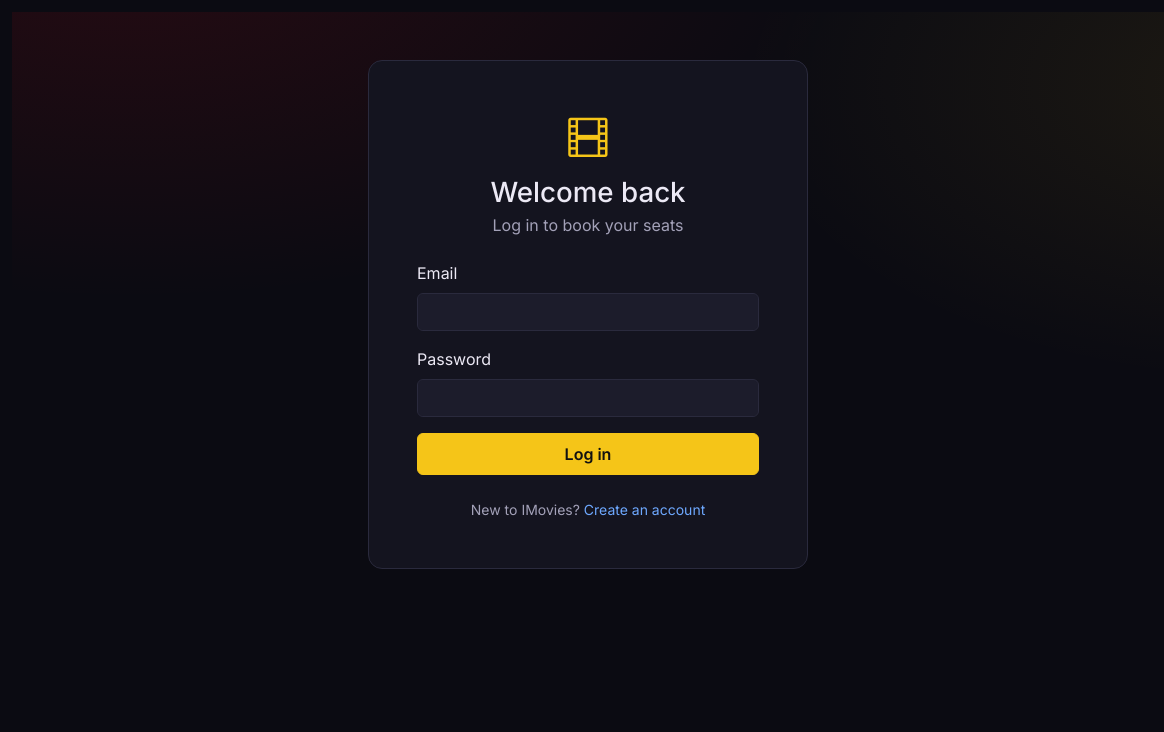
Test: Authentication forms › ignores external redirect targets
In the field labelled "Email": [588, 312] box x1=417 y1=293 x2=759 y2=331, type "demo@imovies.test"
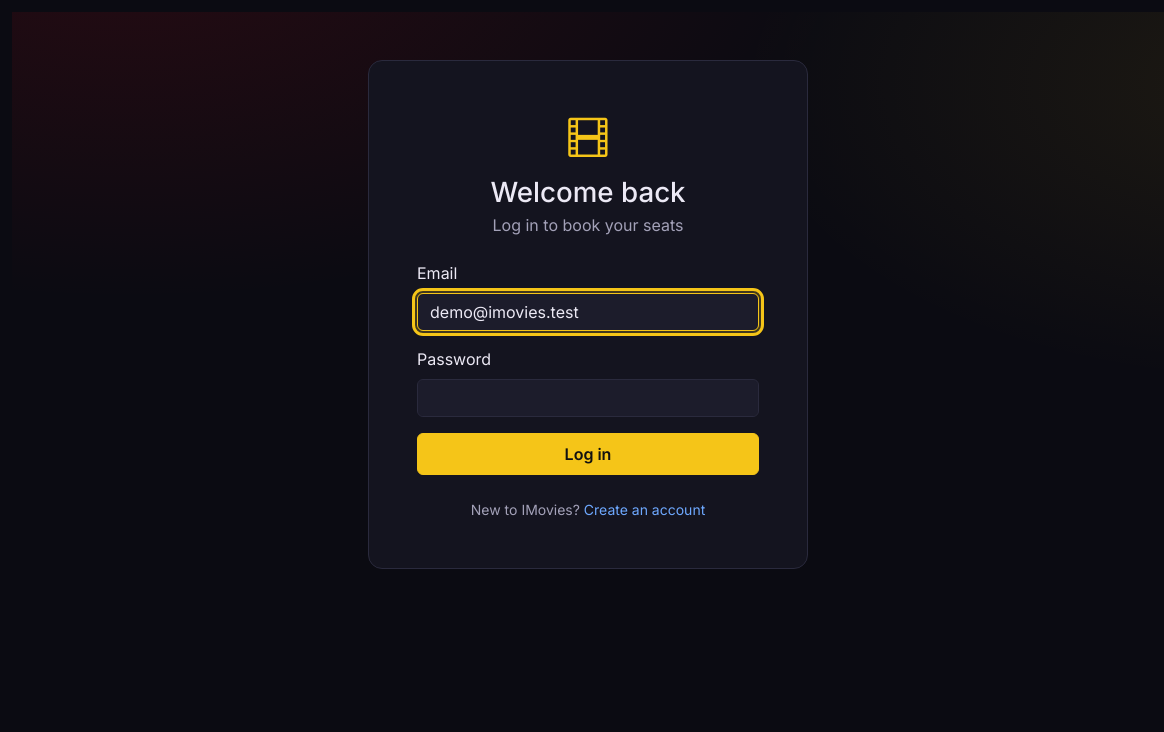
In the password field labelled "Password": [588, 398] box x1=417 y1=379 x2=759 y2=417, type "Demo@12345"
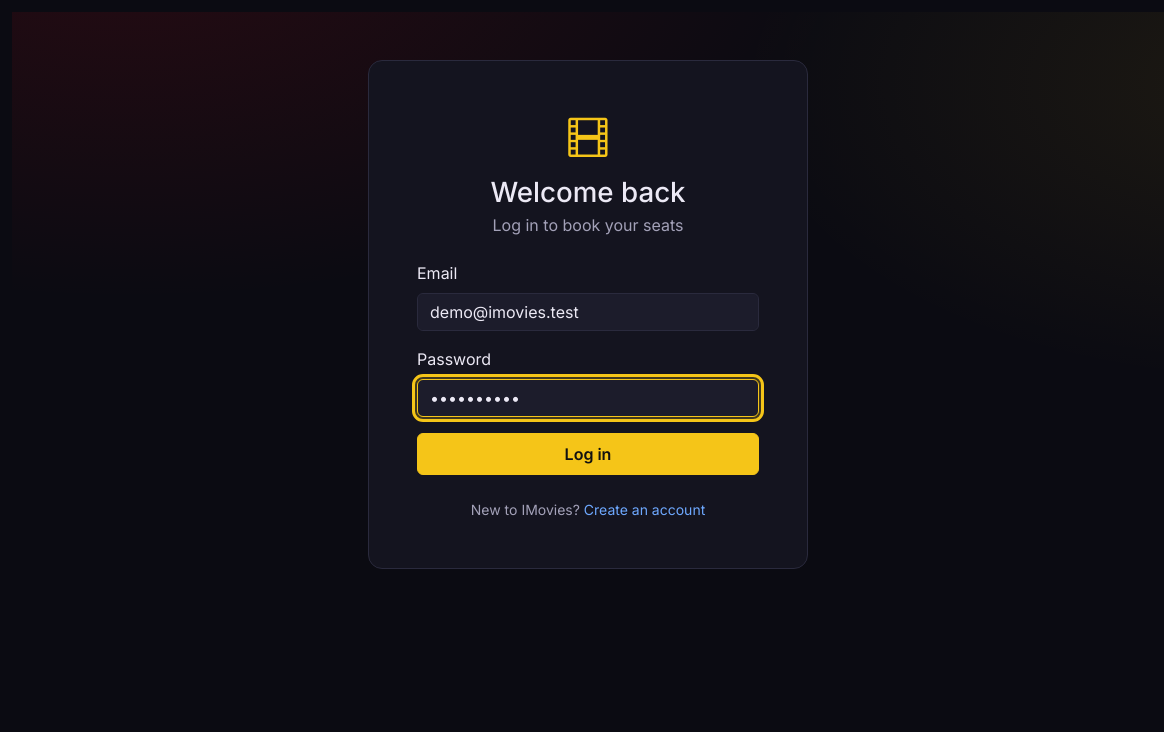
Click the button "Log in": [588, 454] box x1=417 y1=433 x2=759 y2=475
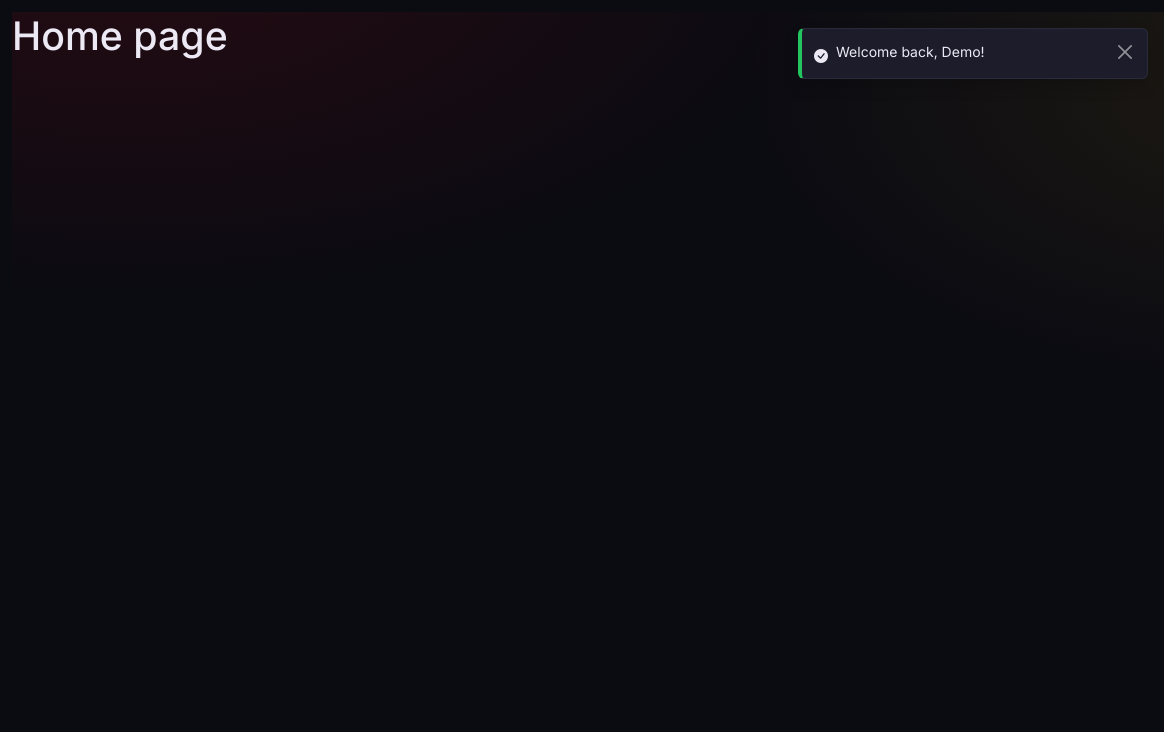
Check: the heading "Home page" is shown, box x1=12 y1=12 x2=228 y2=59
